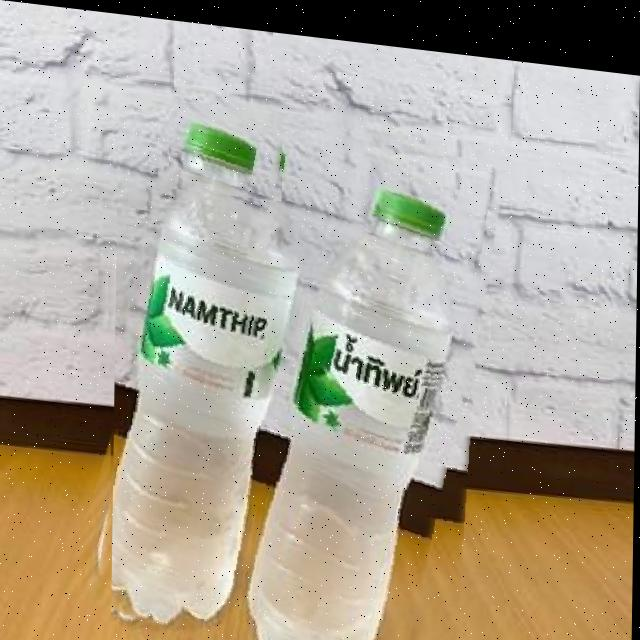plasticbottle: (113, 84, 489, 640), (99, 86, 356, 640)
plasticbottlecap: (169, 96, 283, 195)
